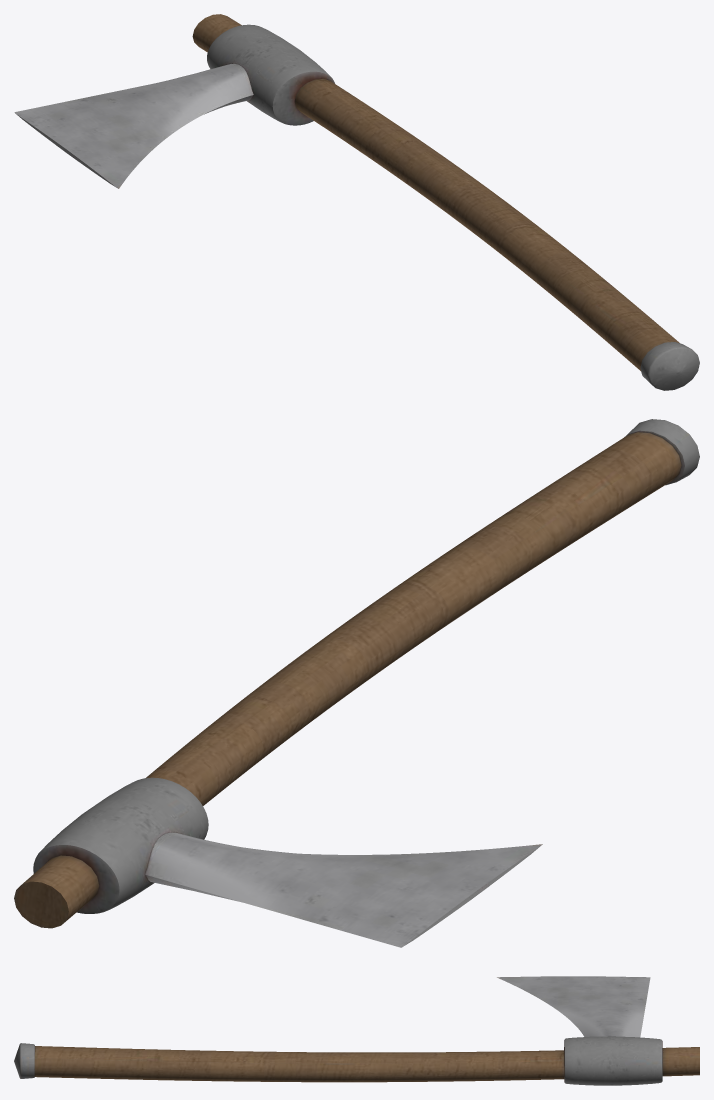
Rendered from slav_axe.glb.
3 views of the same model, one above another, from view 1: azimuth 30°, elevation 25°; view 2: azimuth 150°, elevation 25°; view 3: azimuth 270°, elevation 25° (orthographic). The views are drawn at different scales.
Visible parts, largest first — view 1: slav_axe; view 2: slav_axe; view 3: slav_axe.
Boxes of the visible parts, <box> form: slav_axe: <box>14,14,699,390</box>; slav_axe: <box>14,419,699,947</box>; slav_axe: <box>14,976,699,1085</box>.
Size of the model in its own units: 0.187 by 0.0378 by 0.555.
1 material, 1 textured.
